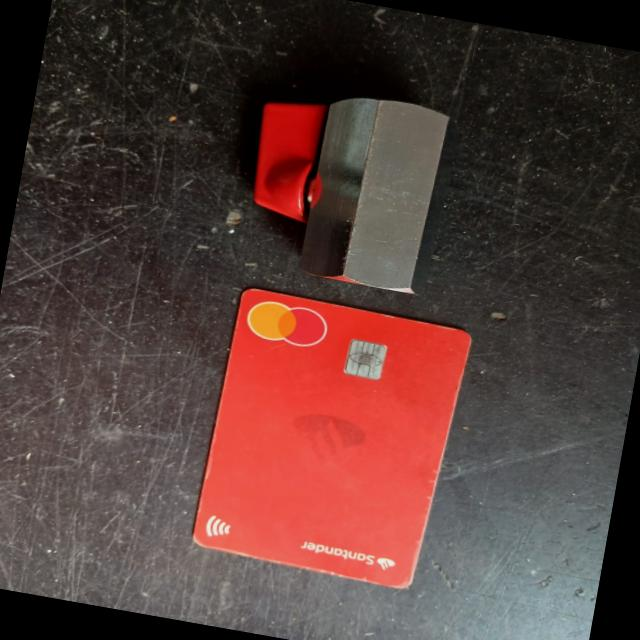cartao: (192, 286, 474, 592)
rosca_interna: (236, 78, 452, 297)
